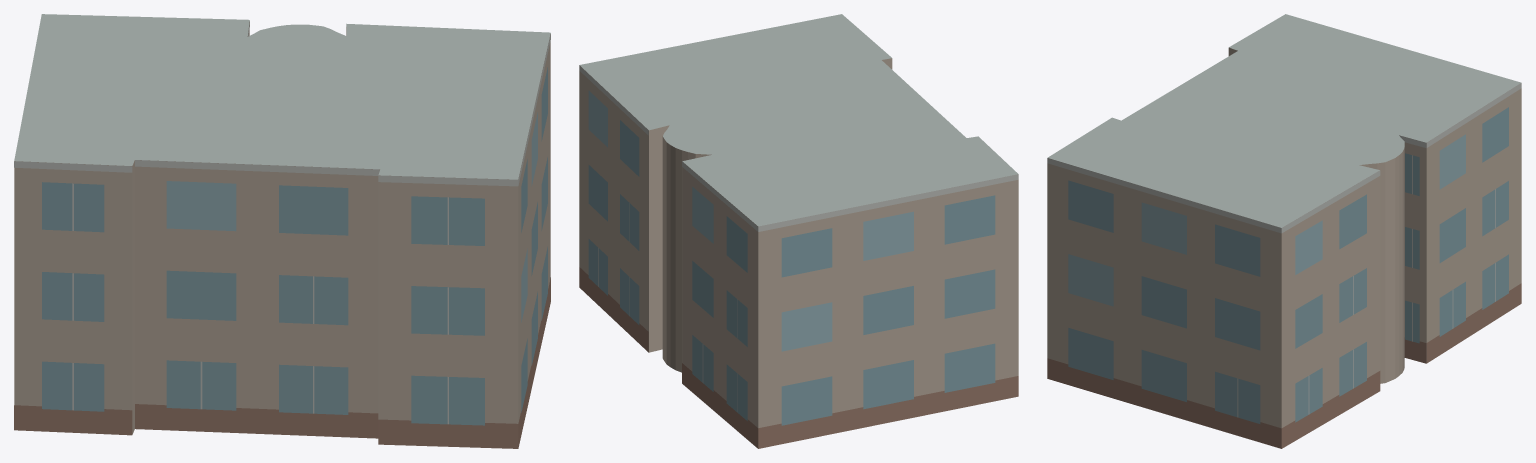
The model's file is survey-upis-32739318.glb.
3 views of the same model, side by side, from view 1: azimuth 30°, elevation 25°; view 2: azimuth 150°, elevation 25°; view 3: azimuth 270°, elevation 25° (orthographic). The views are drawn at different scales.
Visible parts, largest first — view 1: survey-upis-32739318.tmp; view 2: survey-upis-32739318.tmp; view 3: survey-upis-32739318.tmp.
Part boxes in pixels (left/top/right/bottom): survey-upis-32739318.tmp: left=14, top=14, right=550, bottom=448; survey-upis-32739318.tmp: left=579, top=14, right=1018, bottom=448; survey-upis-32739318.tmp: left=1047, top=14, right=1521, bottom=448.
Bounding box in the file's own units: 20.36 × 9.8 × 19.08.
